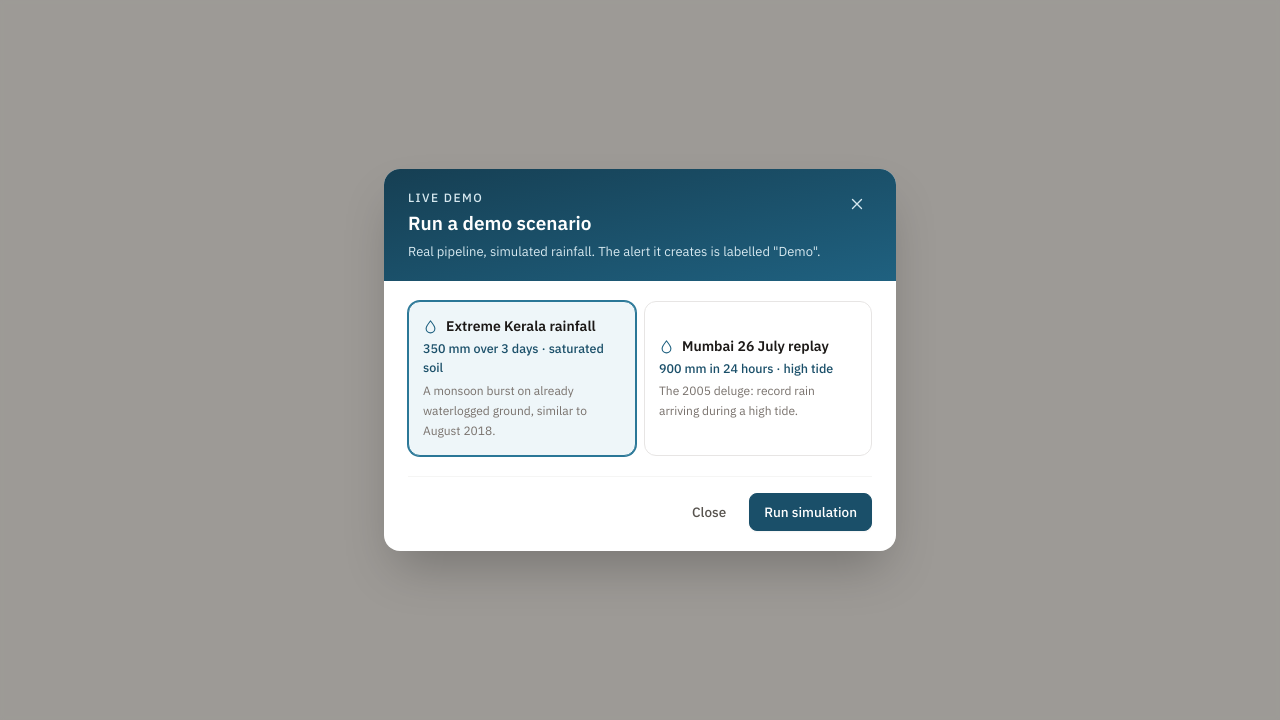
Scenario: Demo scenario › runs the pipeline and reveals every stage with real details
Click the button "Run simulation".
click(811, 512)  # box [749,493,872,531]
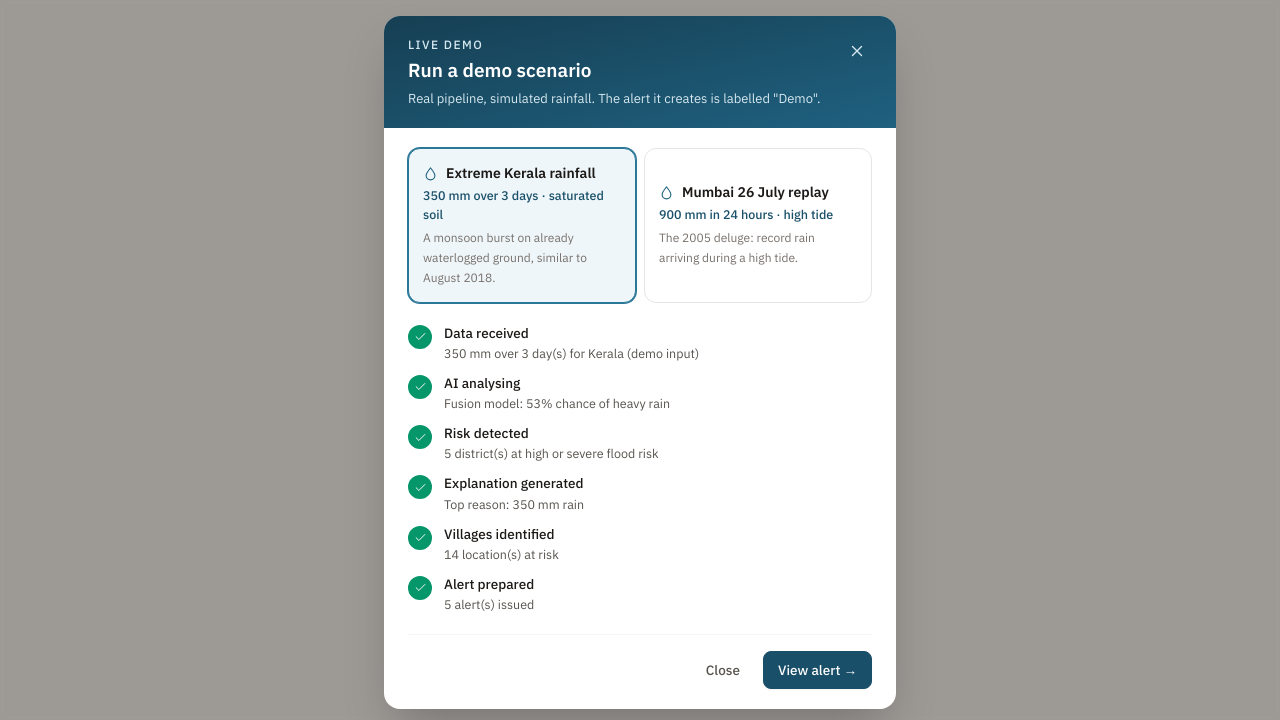
Expected: the text "5 alert(s) issued" is shown, [444,594,534,614]
Expected: the text "14 location(s) at risk" is shown, [444,544,559,564]
Expected: the button "View alert →" is shown, [763,651,872,689]
